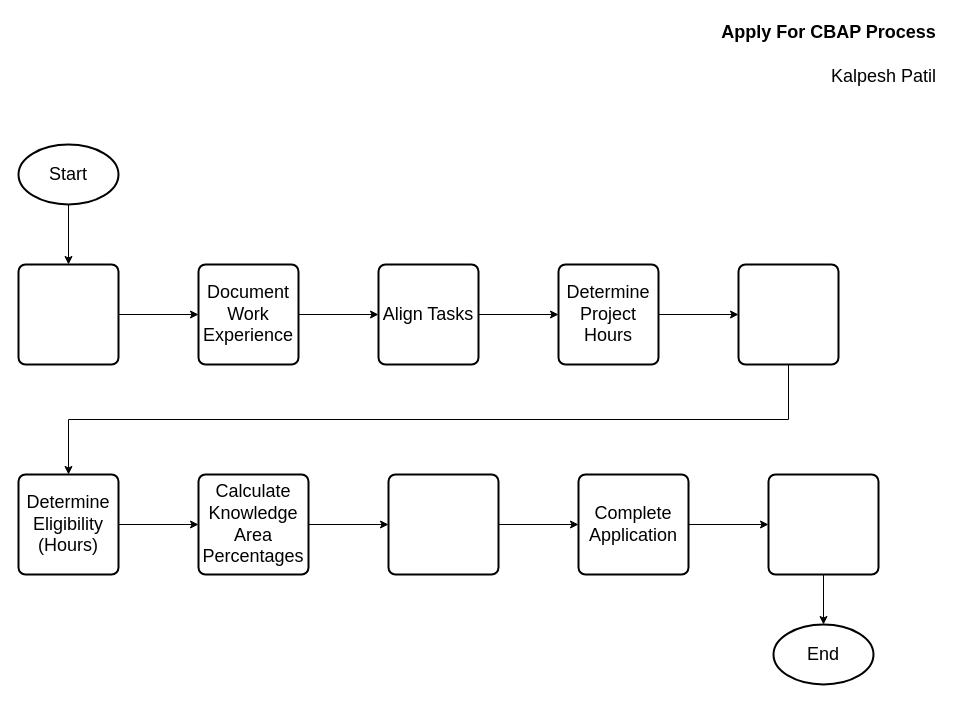
Image size: 960x702. Some labels were removed from this diagram. Here are the shapes that lost their labels. From the top down, the box of each, then its label:
(17, 263, 119, 365): Read HandBook
(737, 263, 839, 365): Calculate BA Specific Hours
(387, 473, 499, 575): Determine Eligibility (Knowledge Areas)
(767, 473, 879, 575): Submit Application
